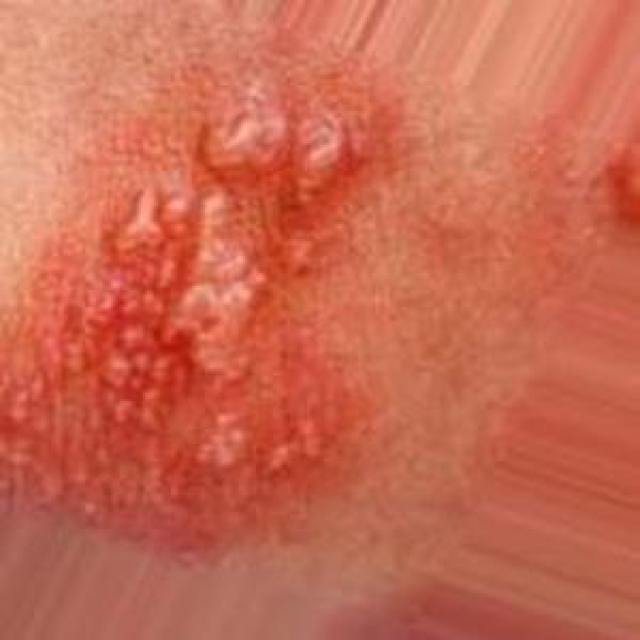Shingles: (0, 95, 382, 507)
